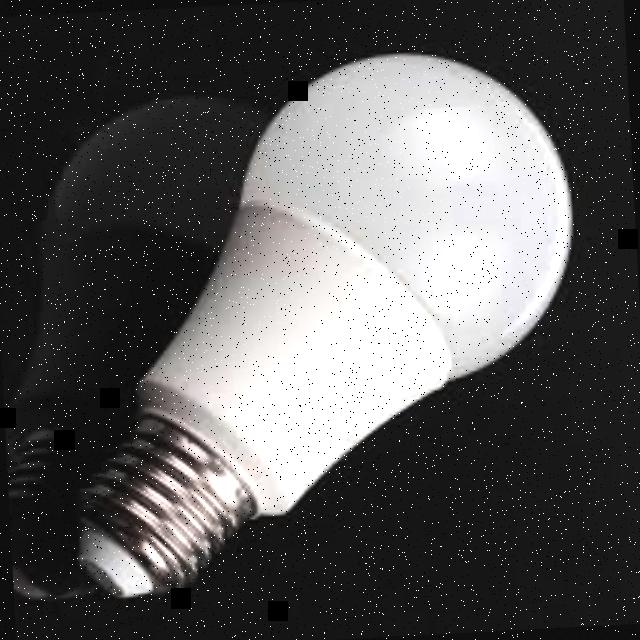light_bulb: (17, 35, 599, 614)
